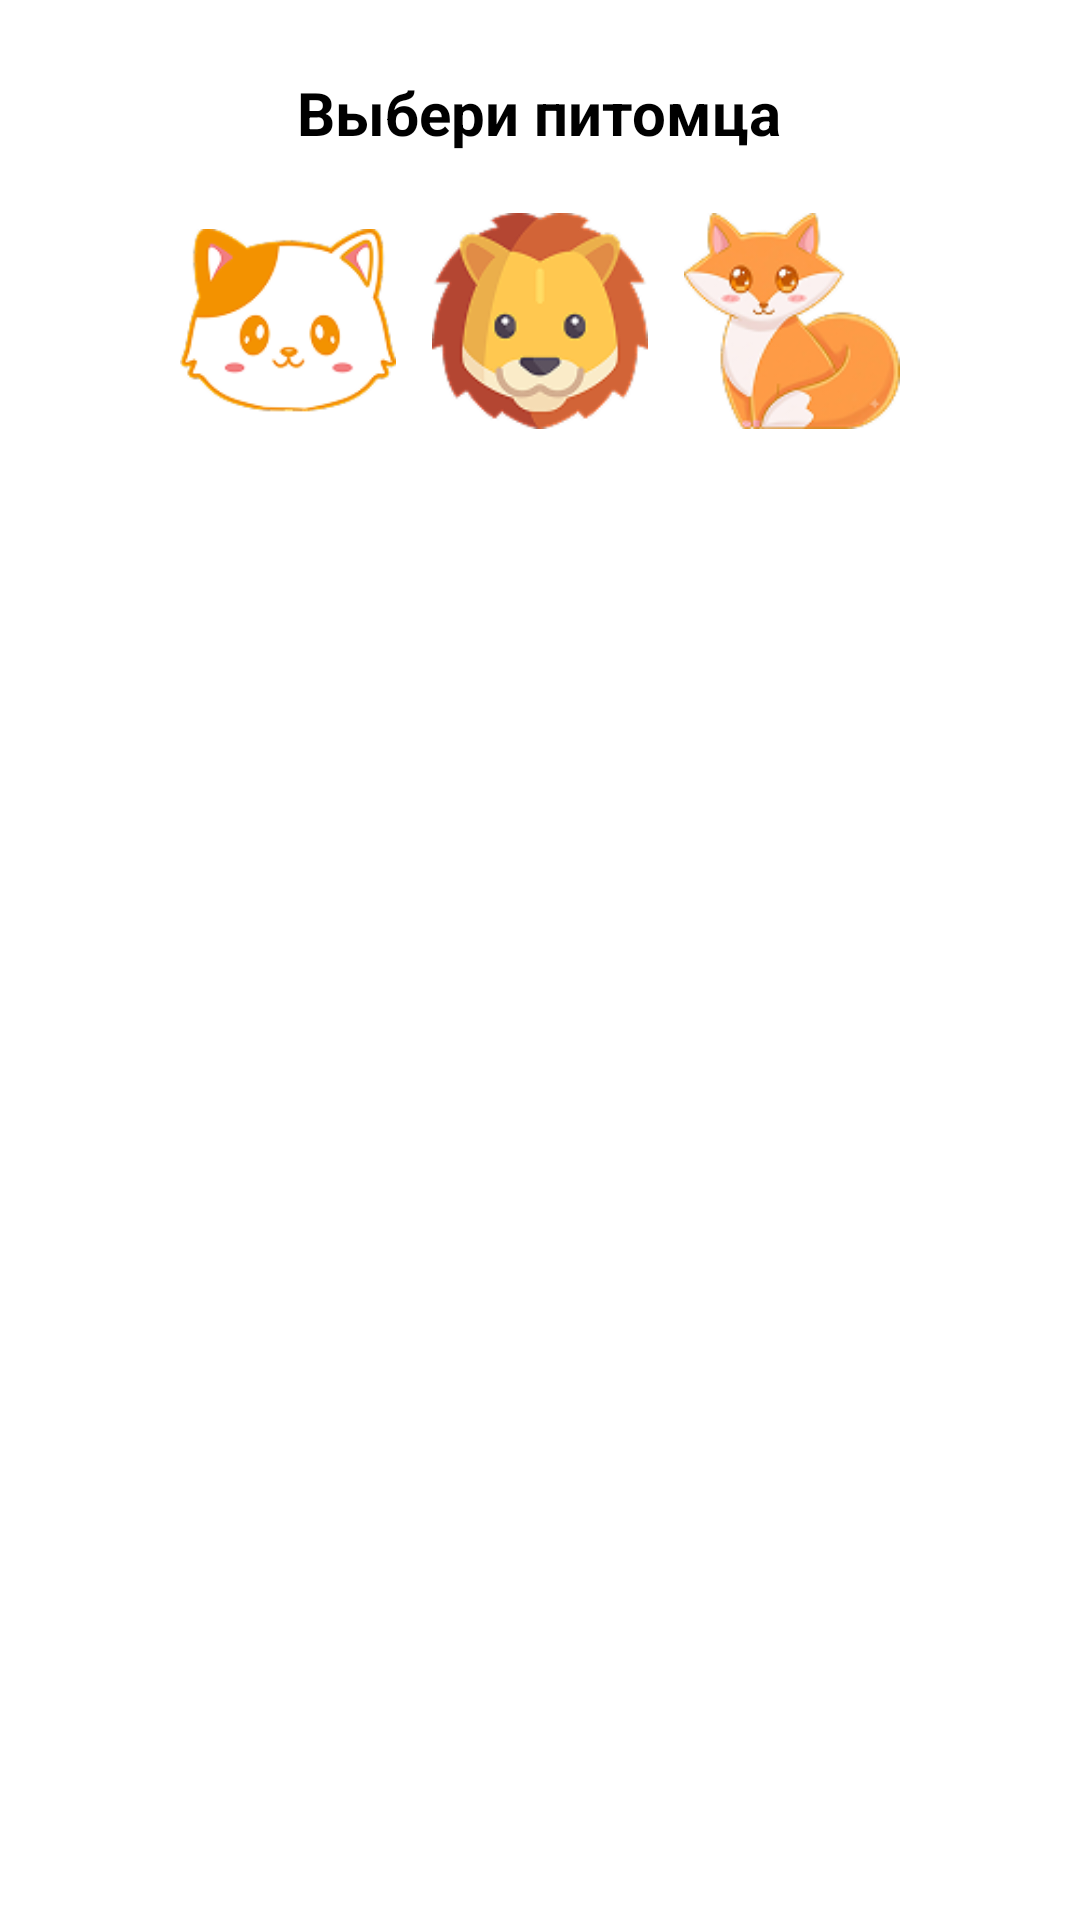

Icons on this 1080px×1920px Android screen, each with the point to tap as point (x, y):
cat: point (288, 320)
